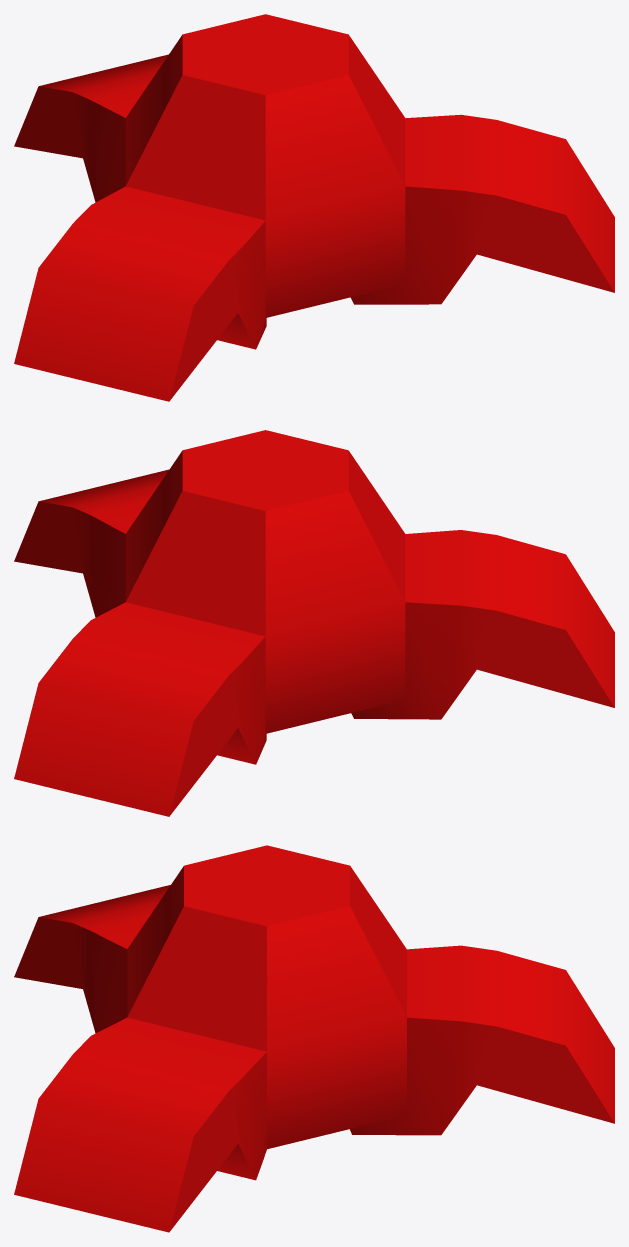
Rendered from crane_graplerl.fbx.
3 views of the same model, one above another, from view 1: azimuth 30°, elevation 25°; view 2: azimuth 150°, elevation 25°; view 3: azimuth 270°, elevation 25° (orthographic).
Parts seen in each view (by area): view 1: pCylinder81; view 2: pCylinder81; view 3: pCylinder81.
Boxes of the visible parts, x1,y1,x2,y2 form: pCylinder81: (14, 14, 614, 401); pCylinder81: (14, 430, 614, 816); pCylinder81: (14, 845, 614, 1232).
Size of the model in its own units: 0.6181 by 0.2239 by 0.5353.
